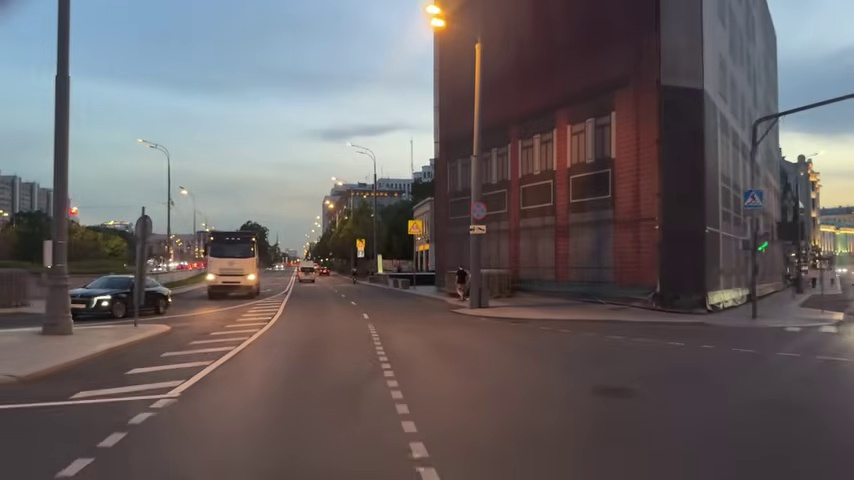acesa: (425, 3, 449, 33)
apagada: (137, 136, 154, 150)
